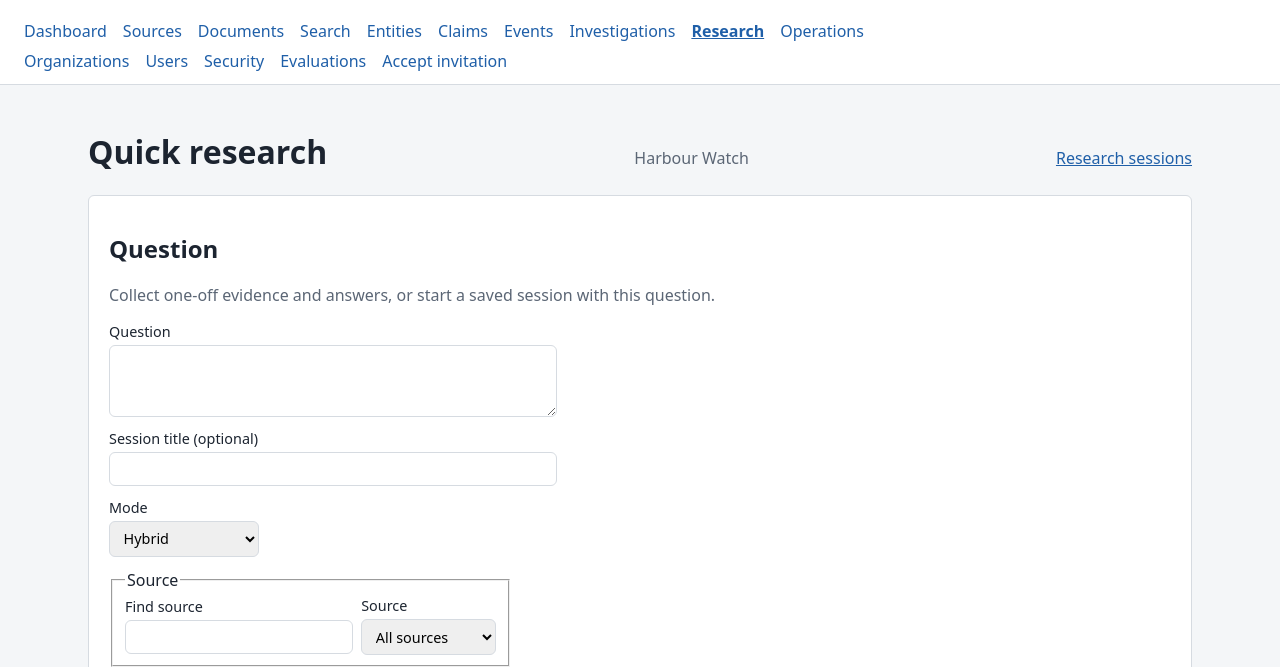
it: quick research › collects evidence only
The image size is (1280, 667).
Type "Why did the harbour close?" into the text box labelled "Question" at (333, 381), box [109,346,557,417]
(page scrolled)
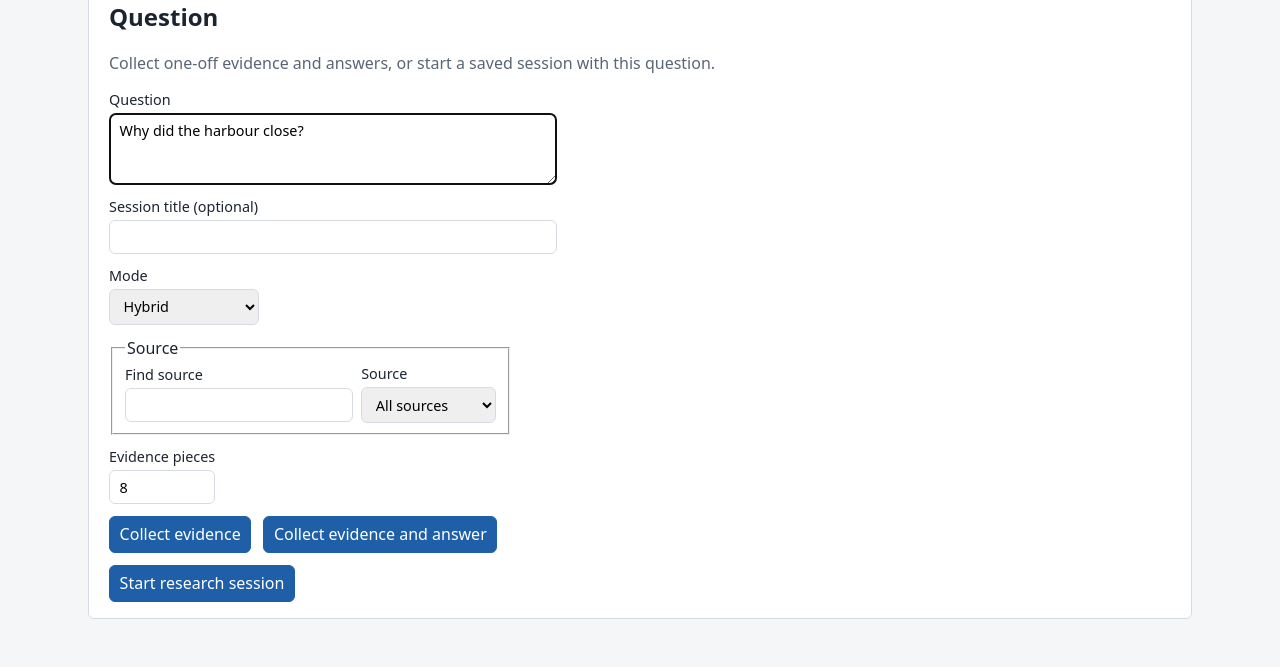
Click the button "Collect evidence" at (180, 534), box [109,516,251,553]
(page scrolled)
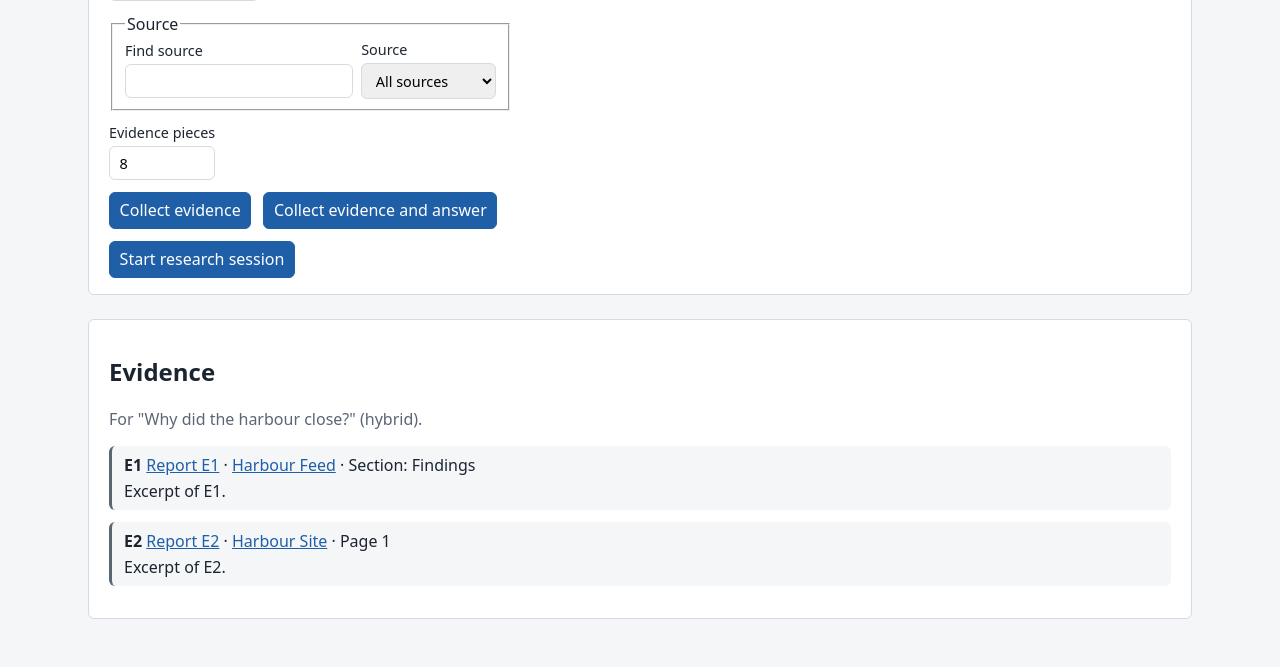
Check: the list item with aria-label "Evidence E1" shows "Report E1", box [146,454,219,476]
Check: the list item with aria-label "Evidence E1" shows "Excerpt of E1.", box [124,480,226,502]
Check: the list item with aria-label "Evidence E1" shows "Section: Findings", box [348,454,476,476]
